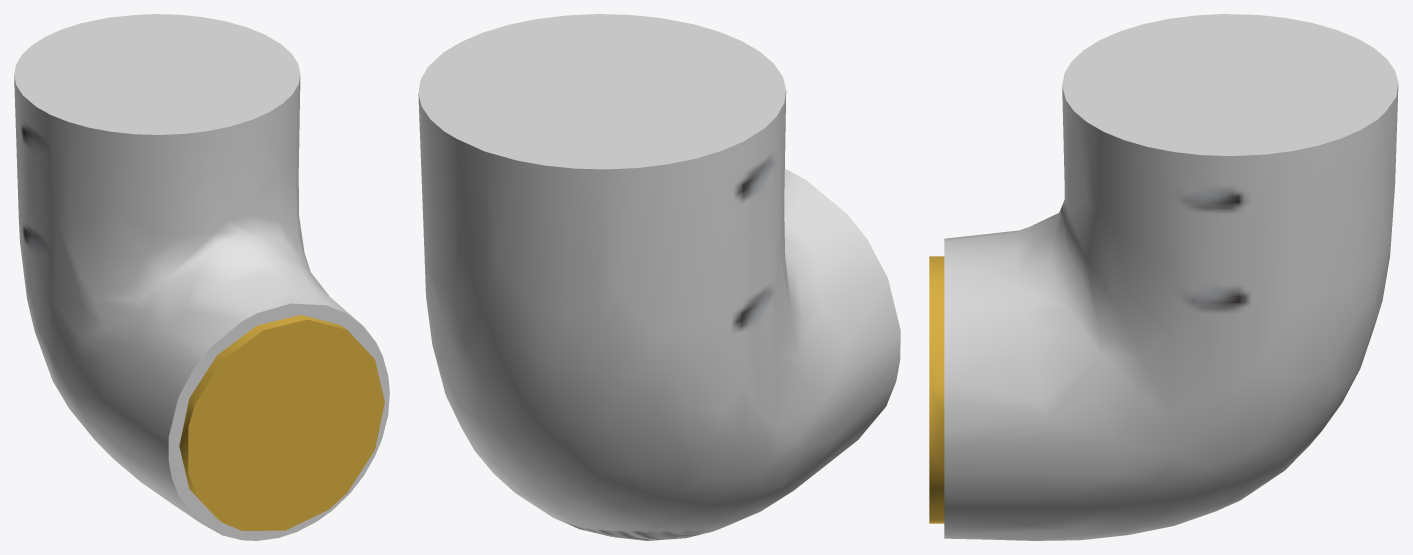
The model's file is link_elbow.3obj.obj.
3 views of the same model, side by side, from view 1: azimuth 30°, elevation 25°; view 2: azimuth 150°, elevation 25°; view 3: azimuth 270°, elevation 25° (orthographic). The views are drawn at different scales.
Visible parts, largest first — view 1: link_elbow whole_robot; view 2: link_elbow whole_robot; view 3: link_elbow whole_robot.
Boxes of the visible parts, bbox=[...] form: link_elbow whole_robot: bbox=[14, 14, 389, 540]; link_elbow whole_robot: bbox=[418, 14, 900, 540]; link_elbow whole_robot: bbox=[929, 14, 1398, 540].
Size of the model in its own units: 0.1015 by 0.147 by 0.1415.
